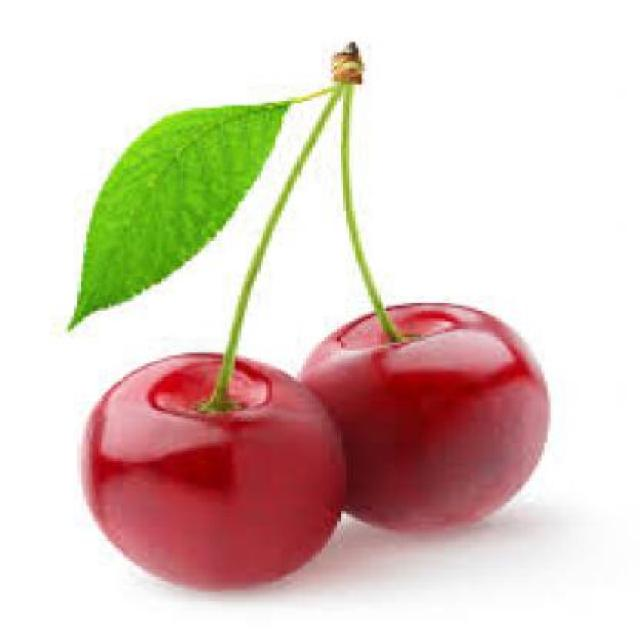BIODEGRADABLE: (77, 342, 343, 587), (303, 303, 548, 532), (62, 97, 290, 329)
